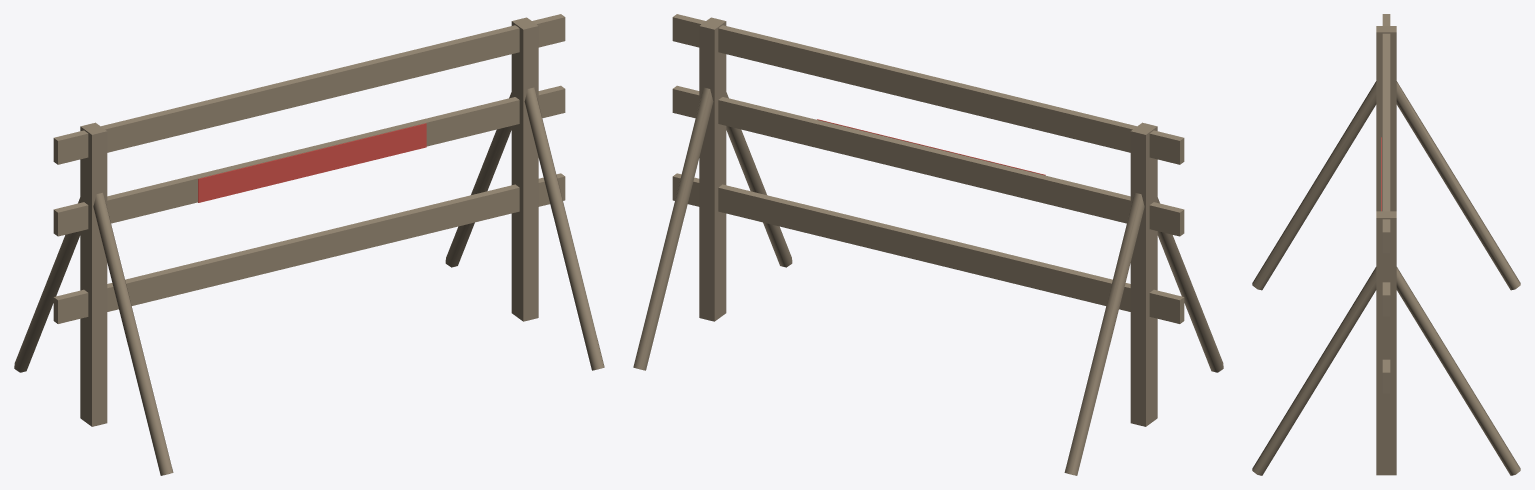
Rendered from festival_barrier_a.glb.
The picture shows the model from 3 angles, left to right: view 1: azimuth 30°, elevation 25°; view 2: azimuth 150°, elevation 25°; view 3: azimuth 270°, elevation 25°; orthographic projection. The views are drawn at different scales.
Parts seen in each view (by area): view 1: body; view 2: body; view 3: body.
Boxes of the visible parts, left/top/right/bottom form: body: left=14, top=14, right=604, bottom=475; body: left=633, top=14, right=1223, bottom=475; body: left=1252, top=14, right=1520, bottom=475.
Size of what is drawn, in the model's own units: 2 by 1.11 by 1.04.
